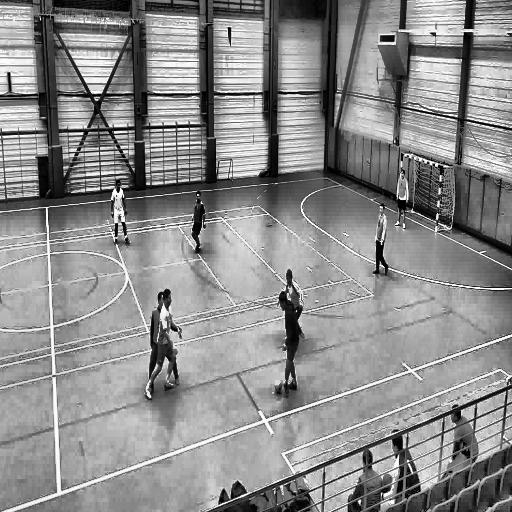ball: (273, 378, 283, 396)
player: (142, 288, 183, 403), (147, 292, 179, 394), (279, 291, 305, 396), (276, 268, 304, 324), (371, 201, 390, 278), (110, 180, 131, 245), (190, 191, 206, 254), (395, 168, 409, 230)
